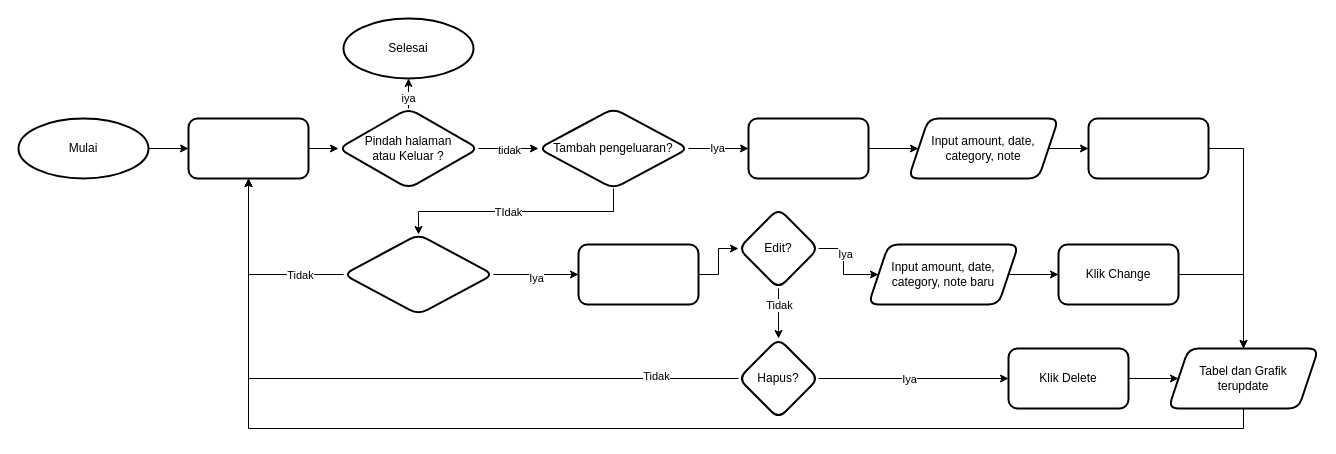
Image size: 1336x454. Some labels were removed from this diagram. Here are the shapes that lost their labels. From the top down, the box of each, then its label:
(187, 117, 309, 179): Month' Income
(747, 117, 869, 179): Tambah Pengeluaran
(1087, 117, 1209, 179): Klik Add
(342, 233, 494, 315): Edit atau hapus pengeluaran?
(577, 243, 699, 305): Klik data pada tabel
